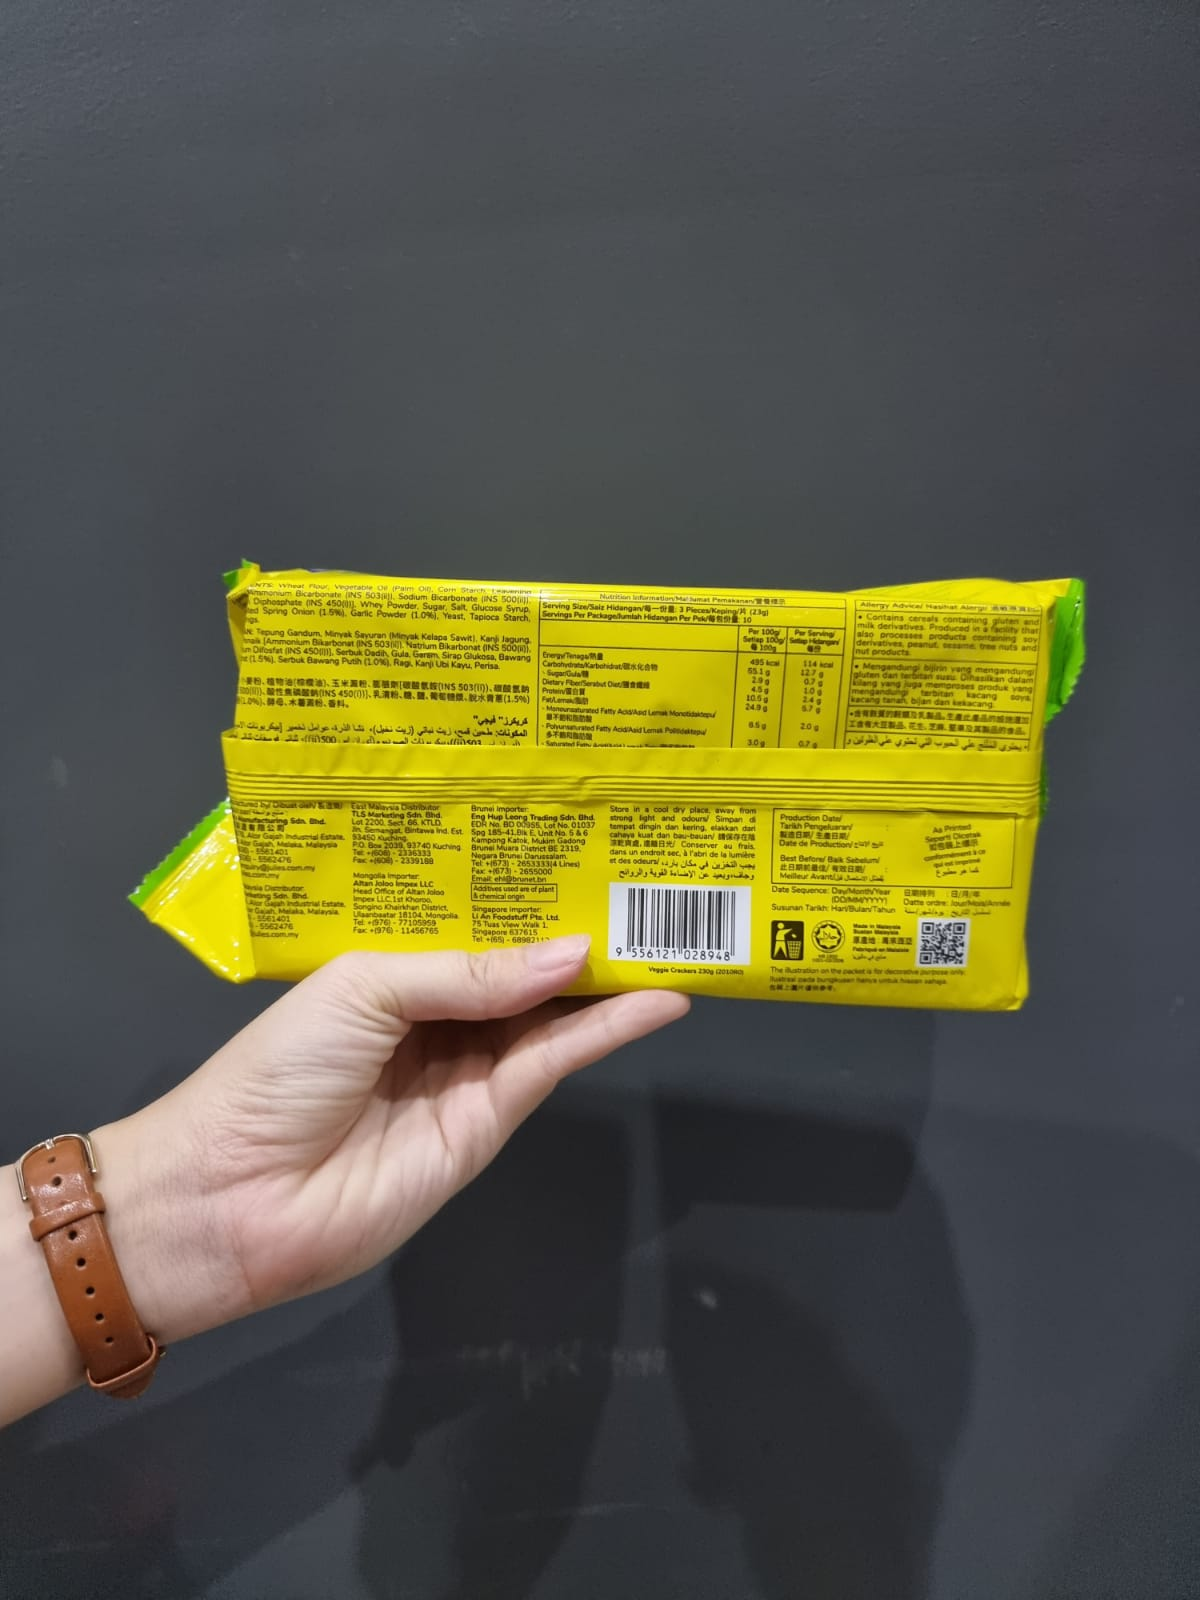Biscuits: (251, 585, 1024, 990)
